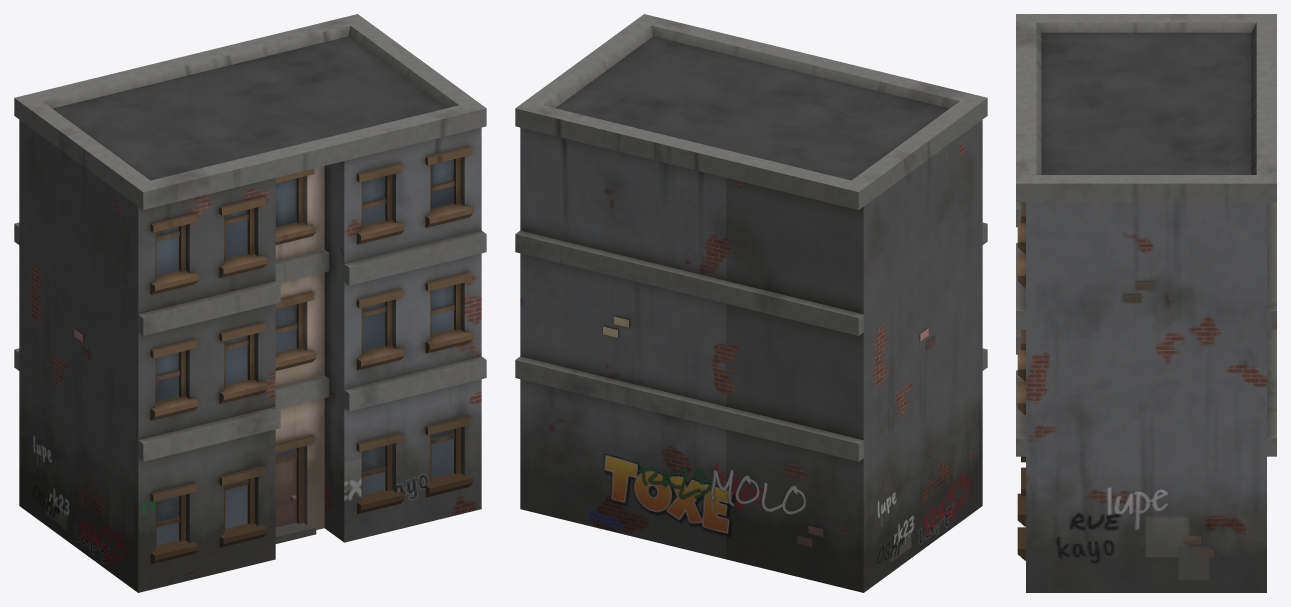
The model's file is building_F.glb.
The picture shows the model from 3 angles, left to right: view 1: azimuth 30°, elevation 25°; view 2: azimuth 150°, elevation 25°; view 3: azimuth 270°, elevation 25°; orthographic projection.
Visible parts, largest first — view 1: building_F_withoutBase; view 2: building_F_withoutBase; view 3: building_F_withoutBase.
Boxes of the visible parts, x1,y1,x2,y2 form: building_F_withoutBase: [14, 14, 486, 592]; building_F_withoutBase: [515, 14, 987, 592]; building_F_withoutBase: [1016, 14, 1276, 592].
Bounding box in the file's own units: 2.01 × 2.25 × 1.3.
Materials: 2 (2 with a texture image).
